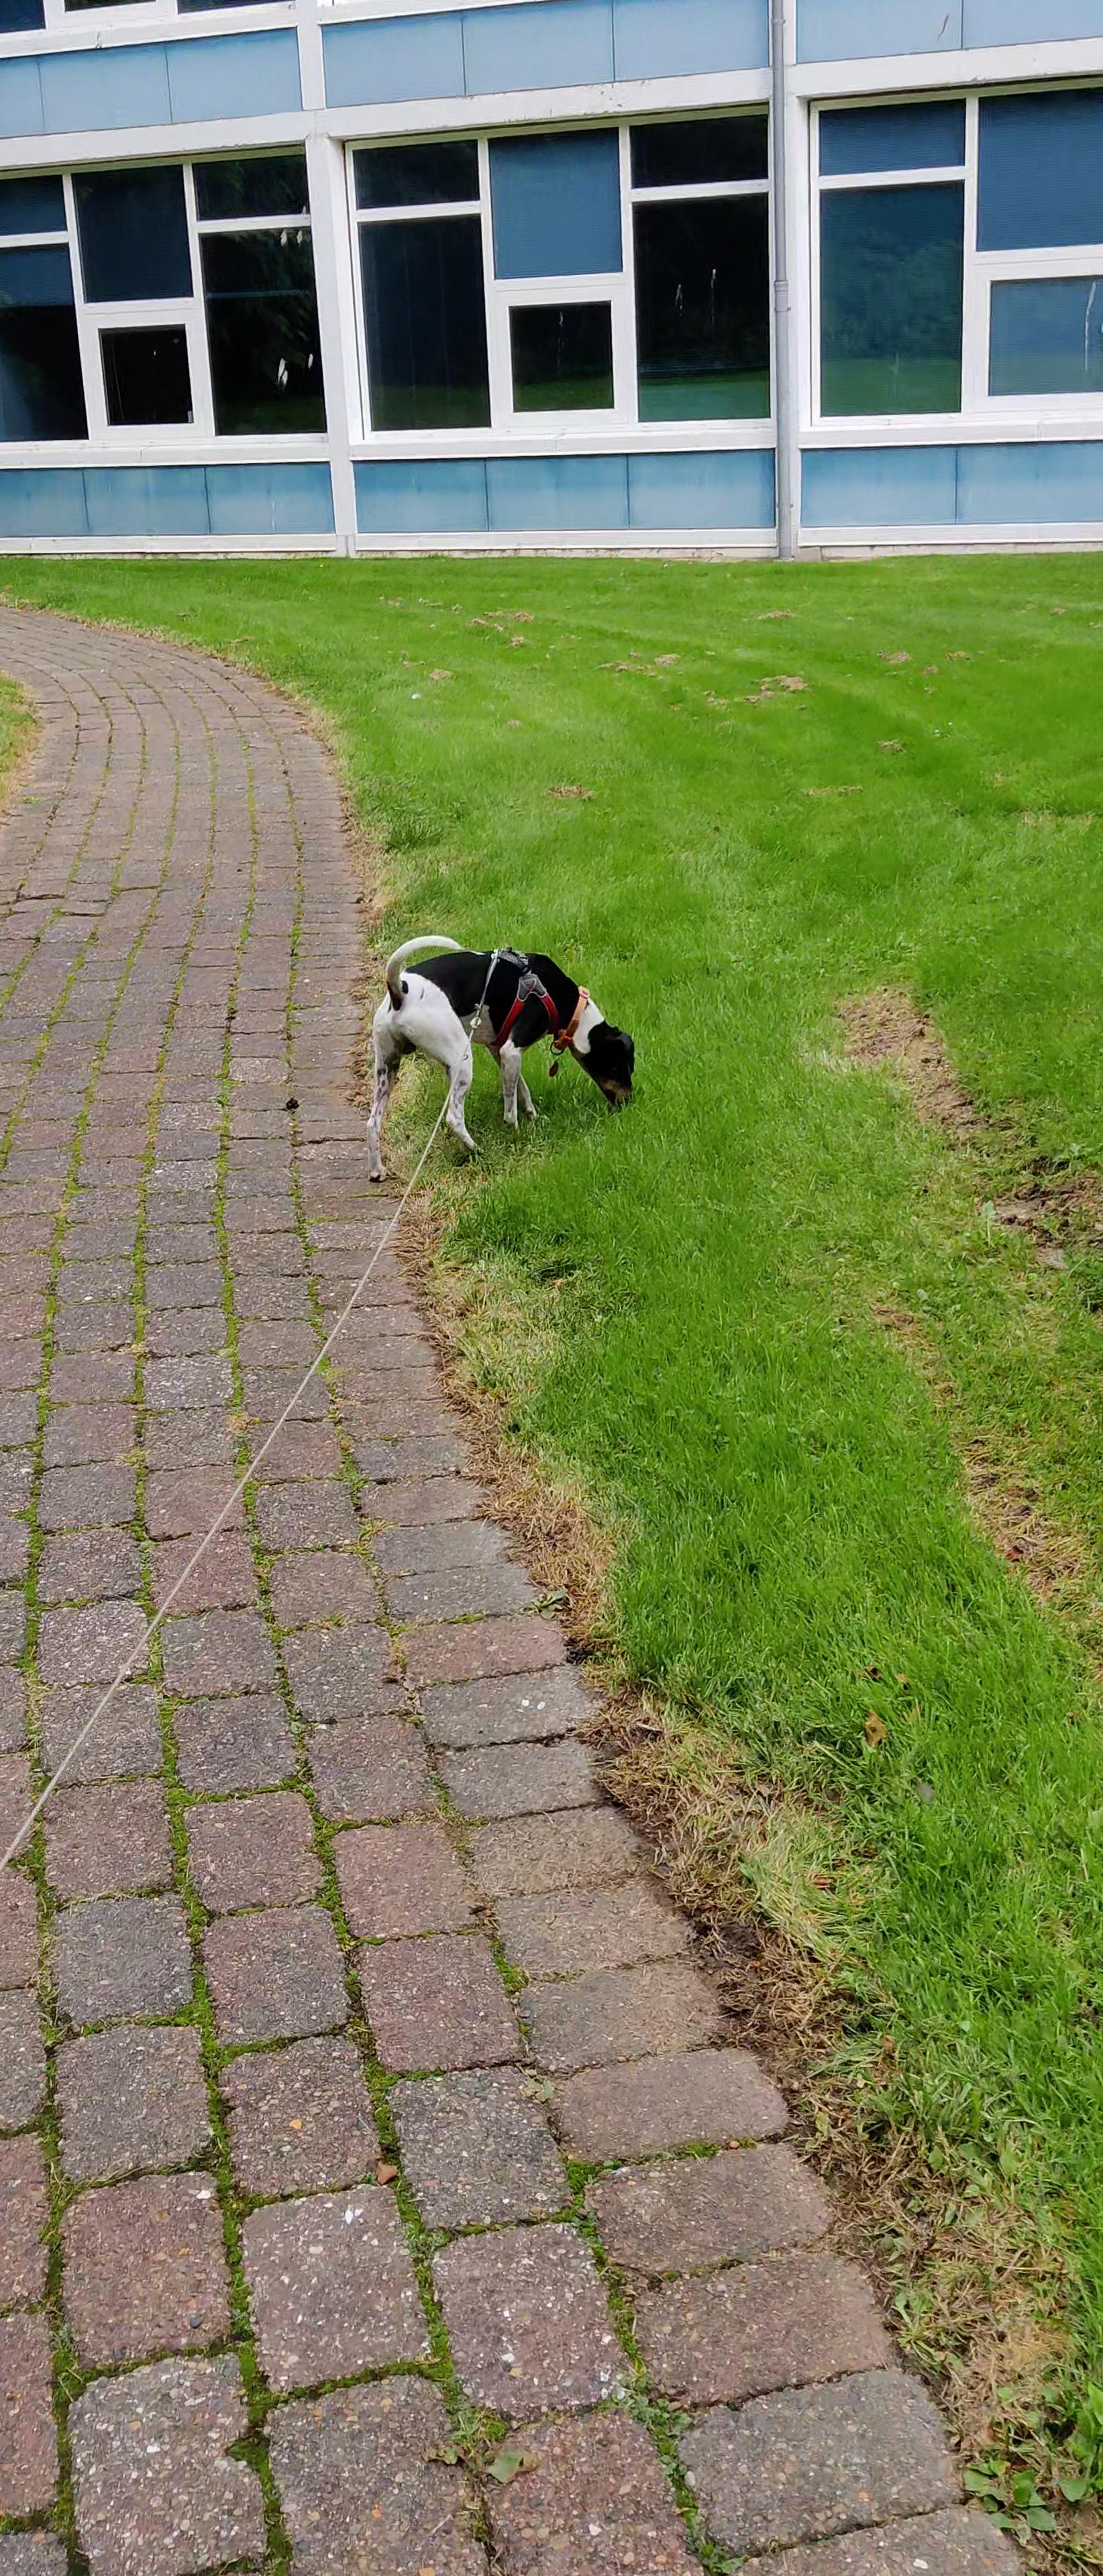Dog: (355, 907, 659, 1188)
